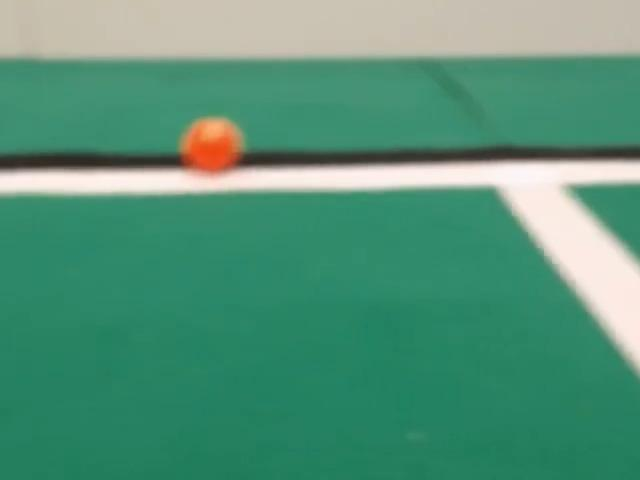Ball: (180, 118, 242, 172)
